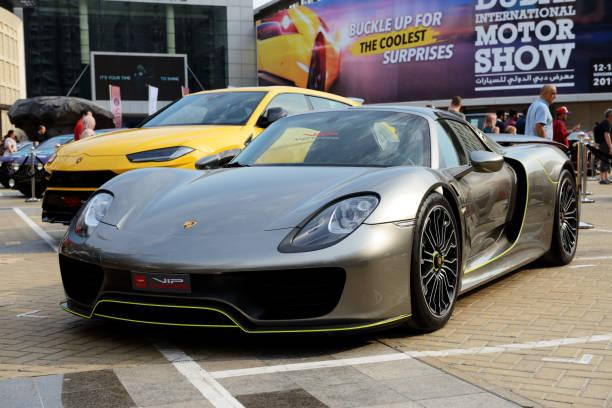porsche: (179, 217, 202, 232)
